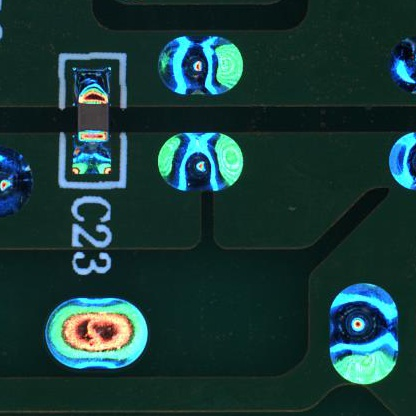spot: (320, 274, 405, 393), (43, 291, 153, 372), (151, 30, 252, 103), (150, 126, 252, 196)
